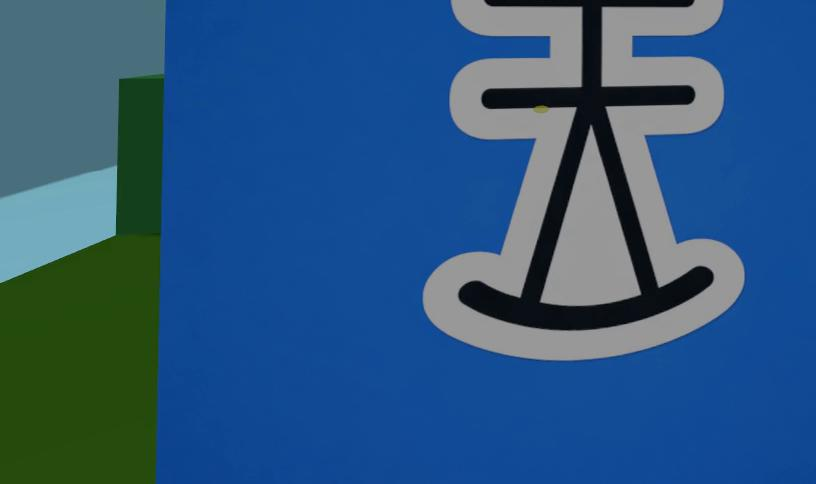KFS_REAL: (156, 0, 816, 483), (425, 0, 744, 360)
